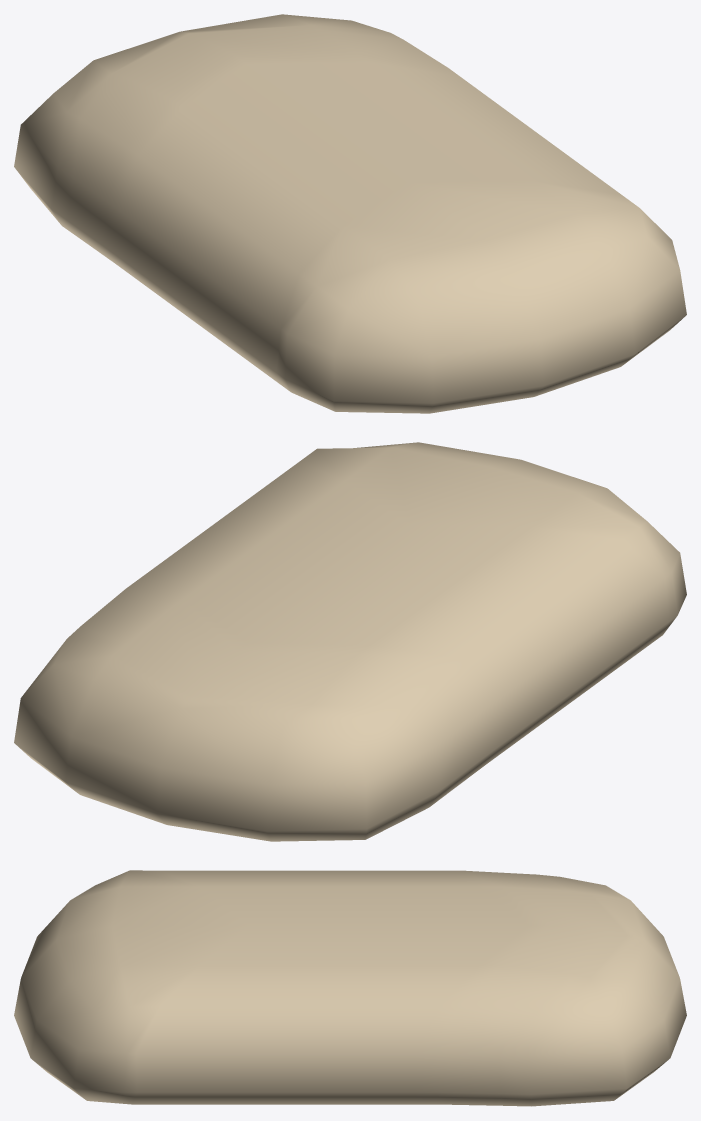
File: FishFilletSingle.fbx
3 views of the same model, one above another, from view 1: azimuth 30°, elevation 25°; view 2: azimuth 150°, elevation 25°; view 3: azimuth 270°, elevation 25° (orthographic). The views are drawn at different scales.
Parts seen in each view (by area): view 1: FishFillet; view 2: FishFillet; view 3: FishFillet.
Boxes of the visible parts, <box> form: FishFillet: <box>14,14,686,413</box>; FishFillet: <box>14,442,686,841</box>; FishFillet: <box>14,870,686,1106</box>.
Bounding box in the file's own units: 45.67 × 13.9 × 78.28.
